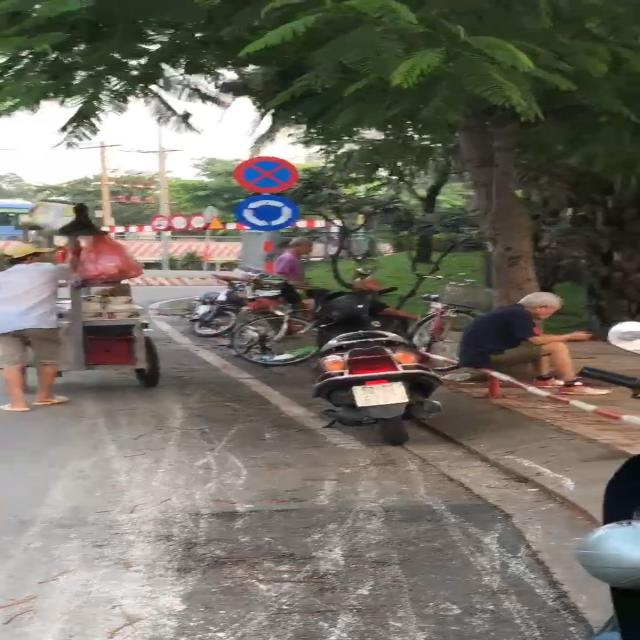Bien bao noi giao nhau chay theo vong xuyen: (233, 193, 305, 236)
